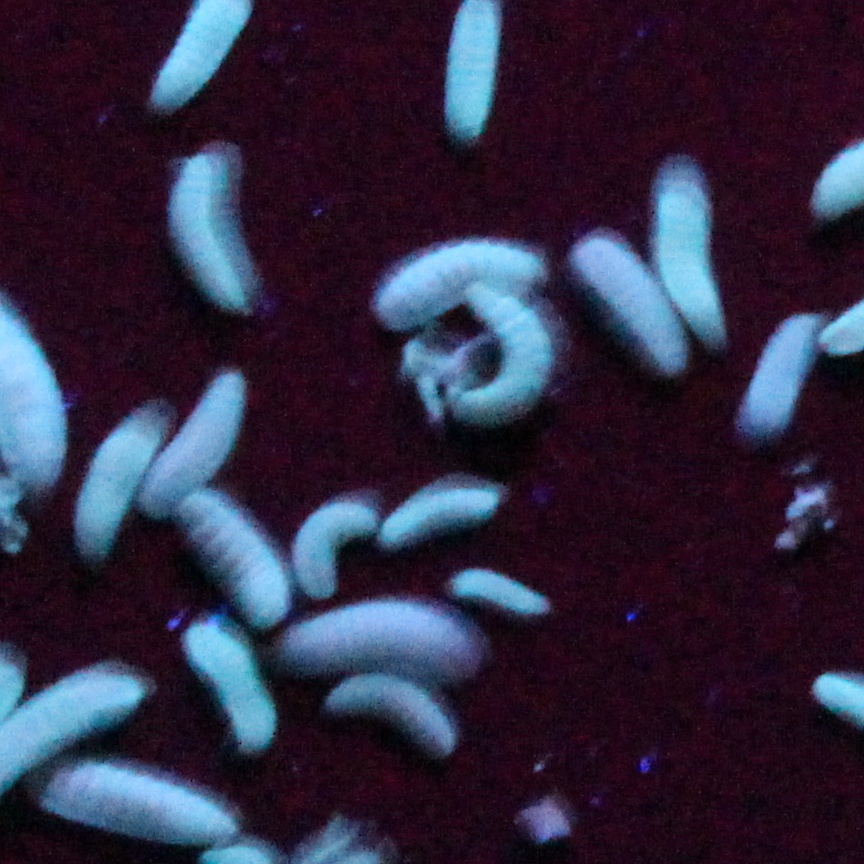larve: (40, 764, 237, 844), (576, 241, 688, 373), (180, 492, 288, 626), (142, 374, 244, 514), (288, 601, 475, 676), (377, 248, 542, 325), (459, 281, 549, 419), (75, 416, 163, 551), (183, 623, 276, 748), (171, 154, 243, 312), (654, 179, 722, 341), (327, 677, 453, 755), (741, 314, 819, 436), (292, 504, 376, 597), (382, 490, 496, 546), (451, 570, 547, 615)
